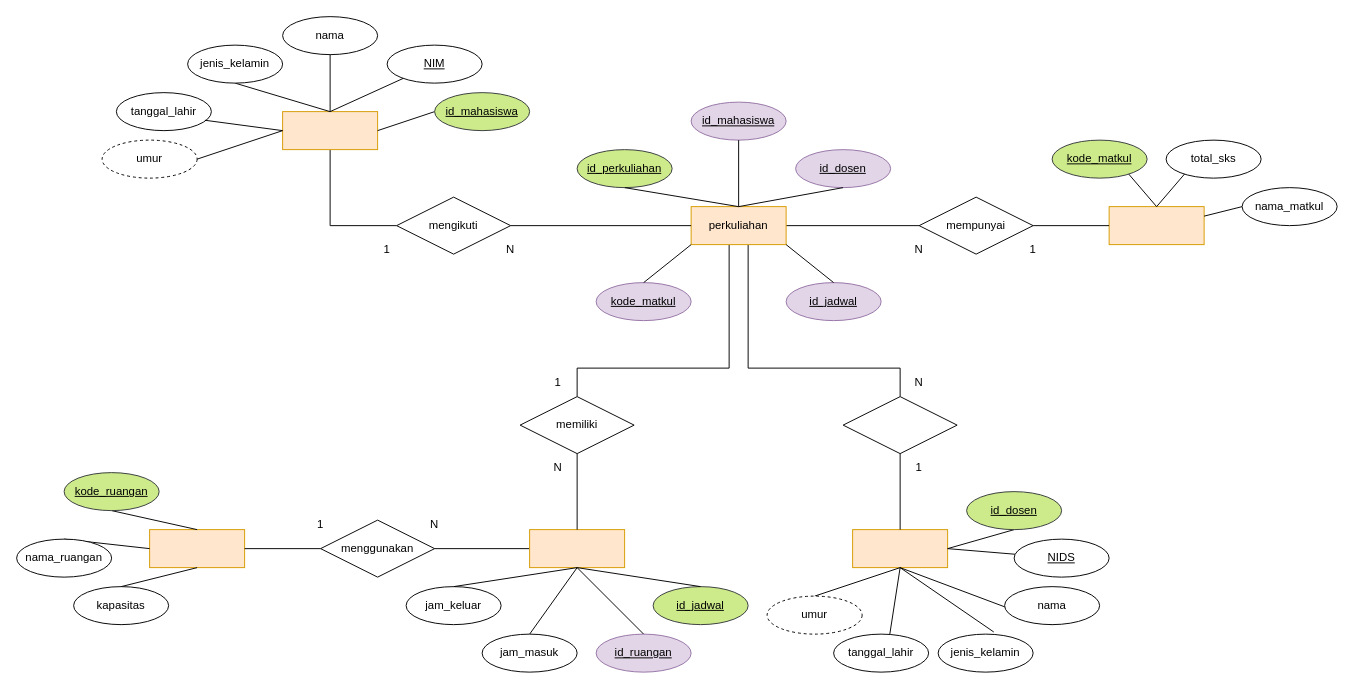
Image size: 1354x689. Some labels were removed from this diagram. The shapes that lost their labels are listed below. From the top down, each one's centre as x and y in pixels, then its label:
(x=330, y=130): mahasiswa
(x=1156, y=225): mata_kuliah
(x=899, y=425): mengampu
(x=197, y=548): ruangan
(x=577, y=548): jadwal
(x=900, y=548): dosen
